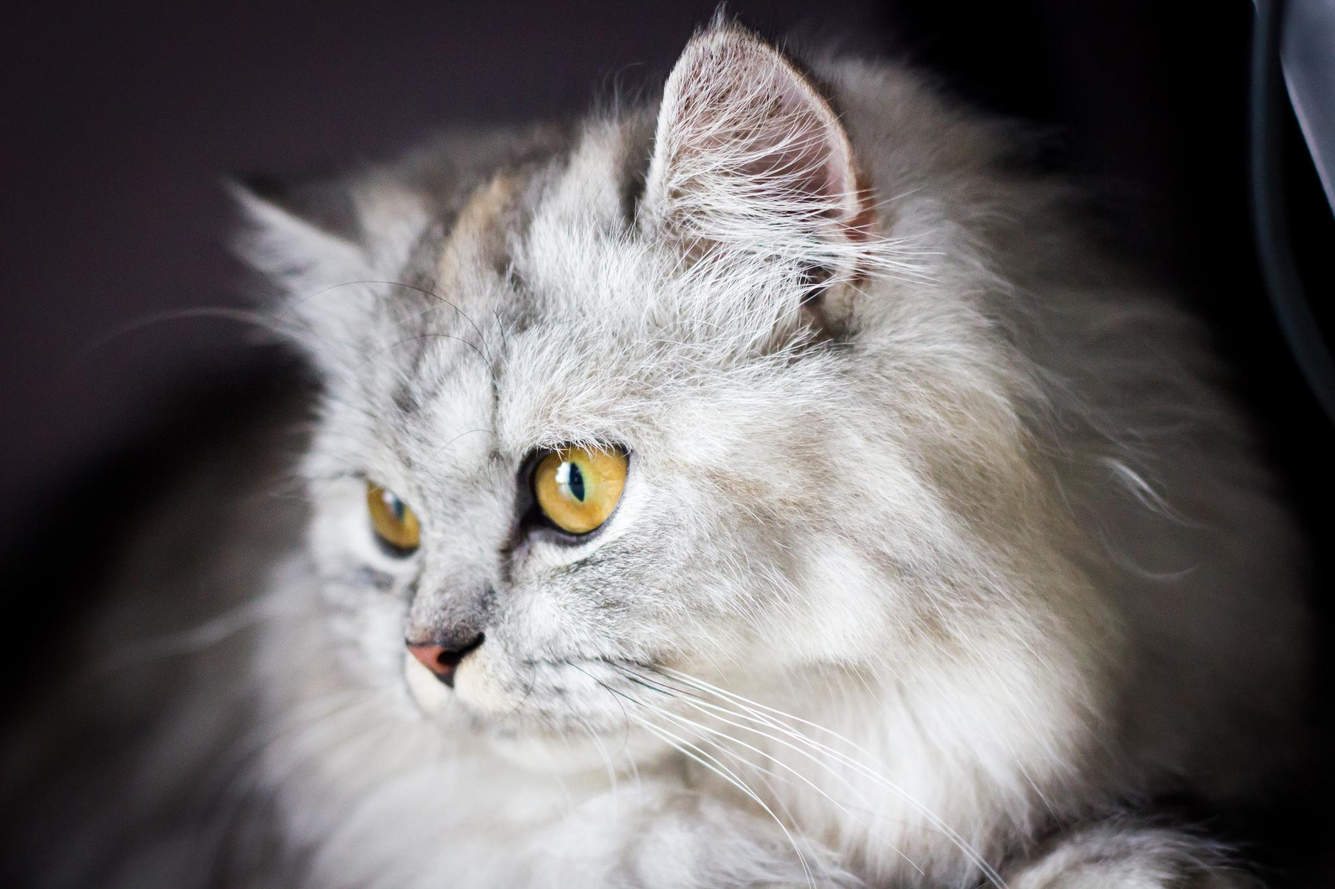cat: (35, 4, 1318, 887)
